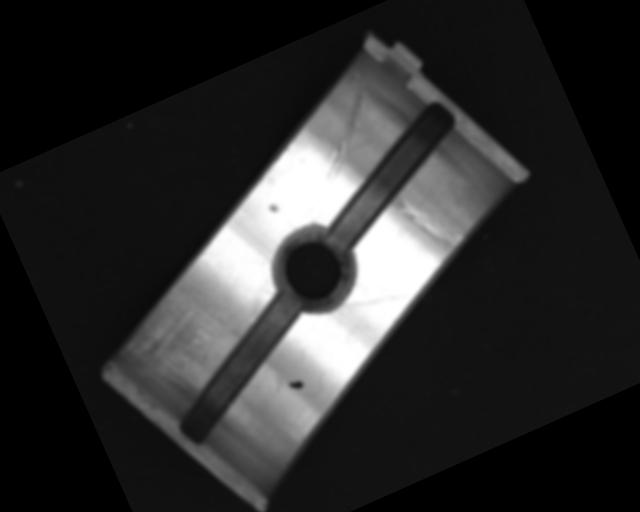blot: (287, 376, 306, 392)
bruise: (268, 202, 280, 214)
gap: (145, 291, 333, 449), (297, 97, 487, 252)
hole: (261, 217, 368, 326)
nick: (289, 68, 395, 182), (392, 178, 466, 263), (339, 273, 420, 325)
scratch: (96, 256, 251, 412)
